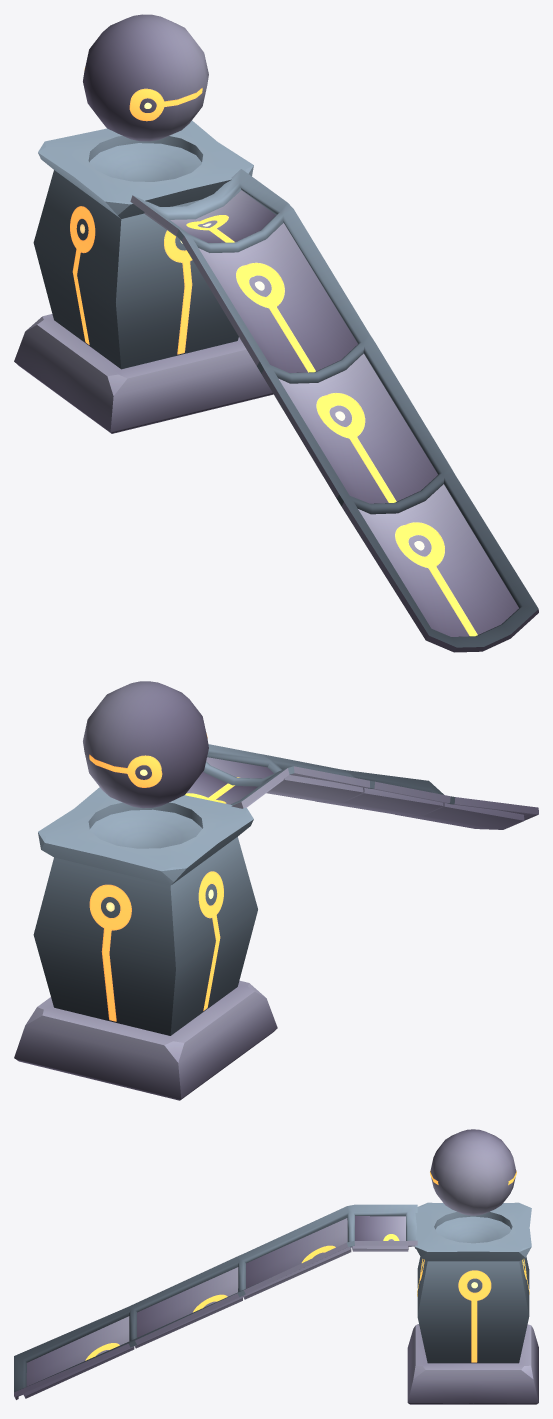
The model's file is FirstPuzzle.fbx.
The picture shows the model from 3 angles, top to bottom: view 1: azimuth 30°, elevation 25°; view 2: azimuth 150°, elevation 25°; view 3: azimuth 270°, elevation 25°; orthographic projection. The views are drawn at different scales.
Visible parts, largest first — view 1: InclinedPlane.001, Stand, Ball.001; view 2: Stand, InclinedPlane.001, Ball.001; view 3: Stand, InclinedPlane.001, Ball.001.
Part boxes in pixels (box(x1,y1,x2,y2)): InclinedPlane.001: box(130, 169, 538, 652); Stand: box(14, 120, 273, 433); Ball.001: box(83, 14, 208, 141); Stand: box(14, 787, 277, 1100); InclinedPlane.001: box(185, 744, 538, 829); Ball.001: box(83, 681, 208, 808); Stand: box(407, 1202, 538, 1404); InclinedPlane.001: box(14, 1204, 417, 1399); Ball.001: box(430, 1129, 516, 1215).
Size of the model in its own units: 146 by 322 by 585.
